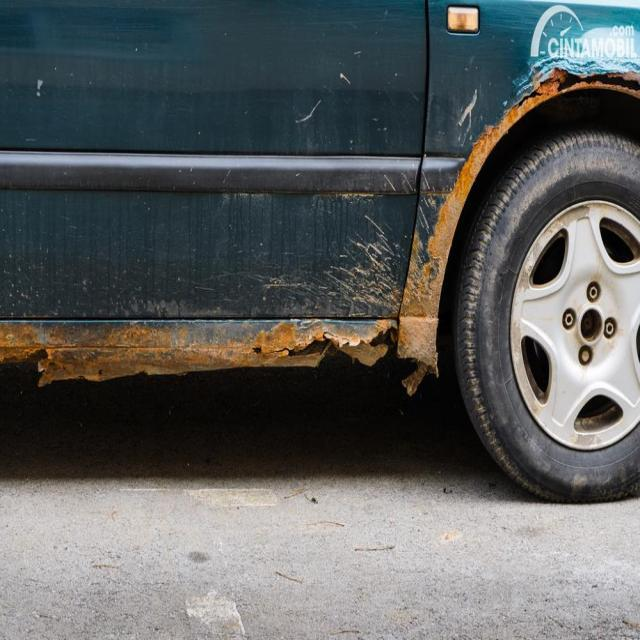corrosion: (1, 330, 439, 387), (514, 64, 582, 113), (585, 76, 640, 101), (406, 252, 440, 291), (451, 13, 477, 32), (444, 197, 463, 221), (468, 152, 484, 166)
